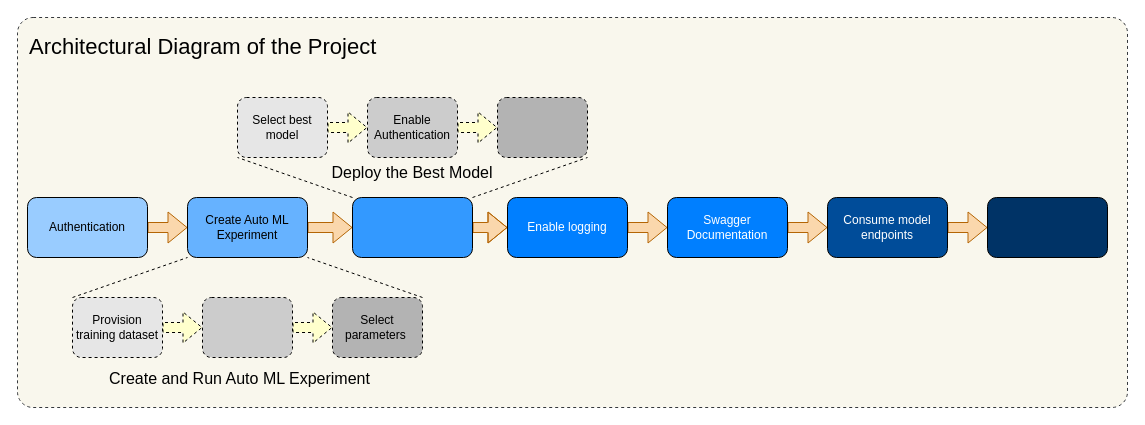
Image size: 1145x425. Some labels were removed from this diagram. Here are the shapes that lost their labels. From the top down, the box of each, then its label:
(496, 96, 588, 158): Deploy using ACI
(352, 196, 472, 258): Deploy best model
(986, 196, 1108, 258): Create and publish pipleine
(202, 296, 292, 358): Provision training compute
